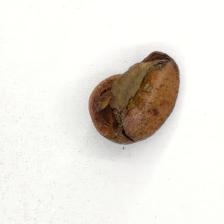NG: (93, 50, 166, 131)
